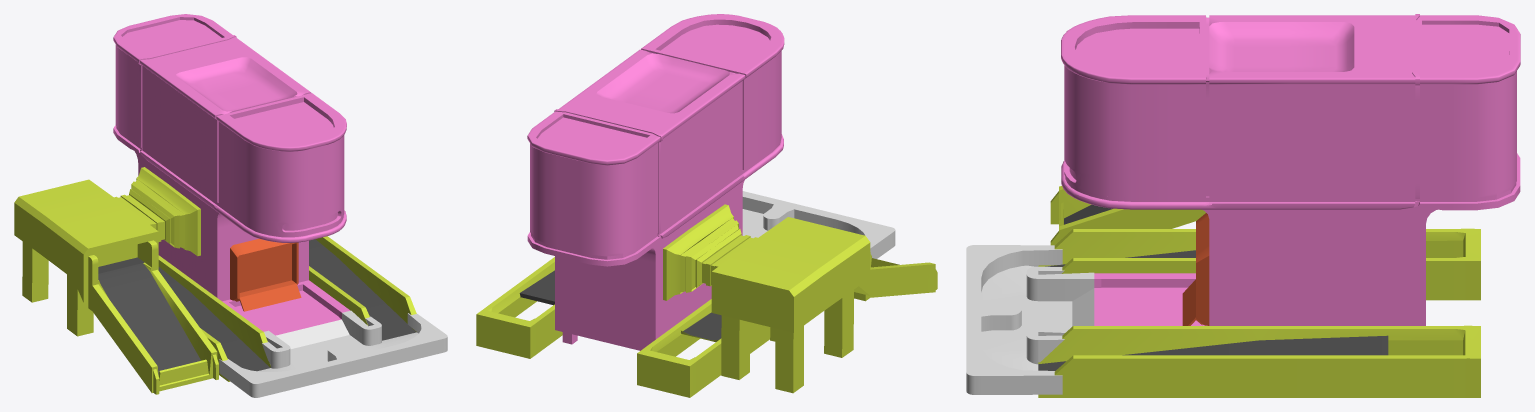
The model's file is FactoryPipeline.008.fbx.
The picture shows the model from 3 angles, left to right: view 1: azimuth 30°, elevation 25°; view 2: azimuth 150°, elevation 25°; view 3: azimuth 270°, elevation 25°; orthographic projection. The views are drawn at different scales.
Parts seen in each view (by area): view 1: FactoryPipeline.008; view 2: FactoryPipeline.008; view 3: FactoryPipeline.008.
Part boxes in pixels (box(x1,y1,x2,y2)): FactoryPipeline.008: box(14, 14, 447, 397); FactoryPipeline.008: box(476, 14, 937, 397); FactoryPipeline.008: box(966, 14, 1520, 397).
Size of the model in its own units: 293 by 219 by 382.
